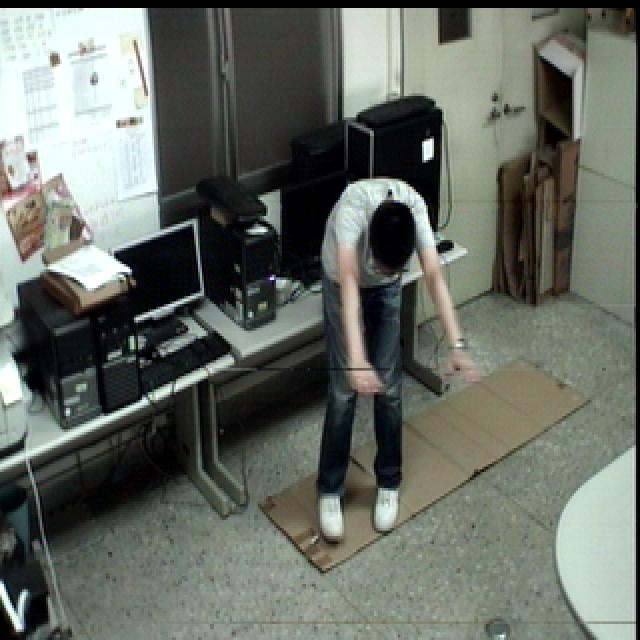bend: (306, 163, 484, 552)
